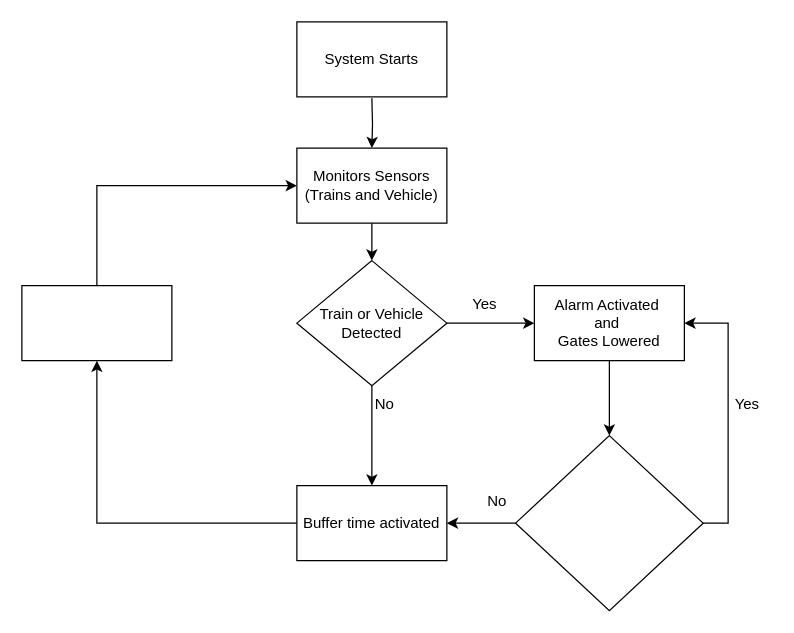
This 794x633 diagram has some shape labels left out. The shapes that lost their labels are listed below. From the top down, each one's centre as x and y in pixels, then its label:
At point (96, 322): "Alarm deactivated and Gates Raised".
At point (608, 522): "Vehicle still on track or Train and Vehicle Detected".
